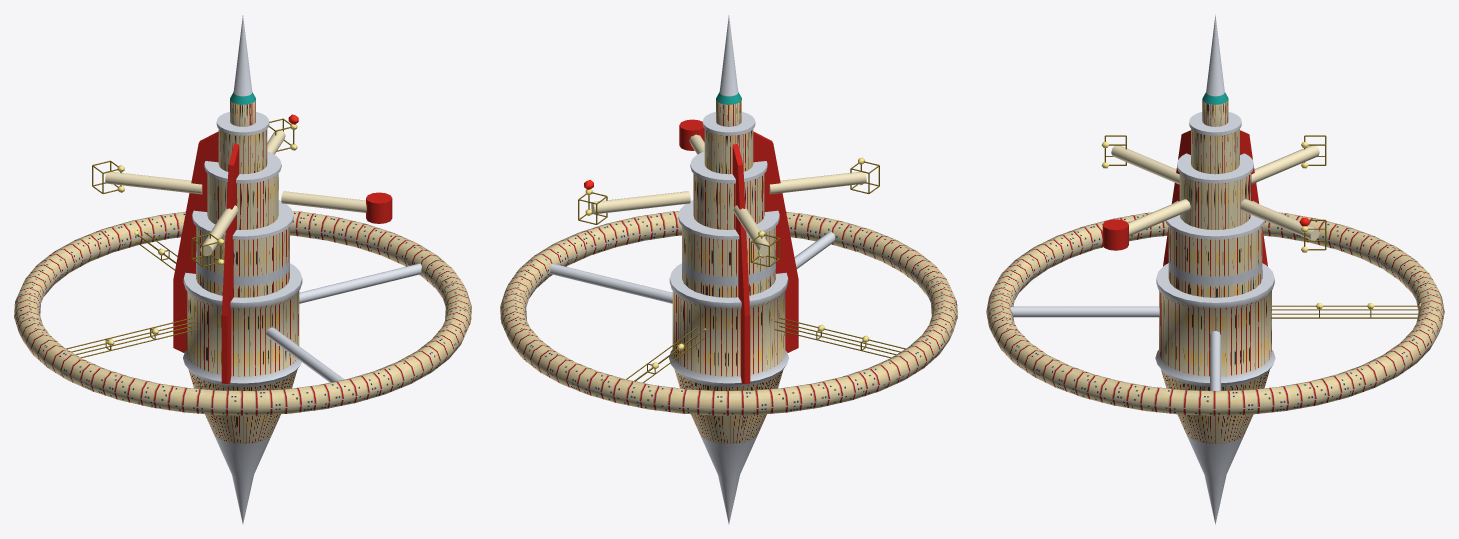
File: guard_station_build2.obj
3 views of the same model, side by side, from view 1: azimuth 30°, elevation 25°; view 2: azimuth 150°, elevation 25°; view 3: azimuth 270°, elevation 25° (orthographic).
Visible parts, largest first — view 1: tower, ring, arm, buttress315, spoke, buttress225, post, cradle, girder; view 2: tower, ring, arm, buttress225, buttress315, spoke, post, girder, cradle; view 3: tower, ring, arm, spoke, post, cradle, buttress225, buttress315.
Part boxes in pixels (left/top/right/bottom): tower: left=183, top=15, right=302, bottom=523; ring: left=14, top=211, right=471, bottom=415; arm: left=105, top=129, right=366, bottom=256; buttress315: left=173, top=131, right=218, bottom=352; spoke: left=266, top=263, right=421, bottom=382; buttress225: left=221, top=143, right=239, bottom=383; post: left=66, top=120, right=294, bottom=358; cradle: left=366, top=192, right=392, bottom=223; girder: left=92, top=118, right=291, bottom=350; tower: left=669, top=15, right=788, bottom=523; ring: left=500, top=211, right=957, bottom=415; arm: left=591, top=134, right=866, bottom=256; buttress225: left=753, top=131, right=798, bottom=352; buttress315: left=732, top=143, right=750, bottom=383; spoke: left=550, top=232, right=834, bottom=303; post: left=578, top=164, right=905, bottom=382; girder: left=578, top=161, right=879, bottom=373; cradle: left=679, top=119, right=704, bottom=150; tower: left=1155, top=14, right=1275, bottom=524; ring: left=986, top=212, right=1444, bottom=415; arm: left=1111, top=145, right=1319, bottom=240; spoke: left=1010, top=306, right=1220, bottom=390; post: left=1104, top=145, right=1419, bottom=318; cradle: left=1102, top=219, right=1128, bottom=250; buttress225: left=1163, top=130, right=1190, bottom=266; buttress315: left=1240, top=130, right=1267, bottom=266.
Bounding box in the file's own units: 244 × 300 × 244.
8 materials, 2 textured.
